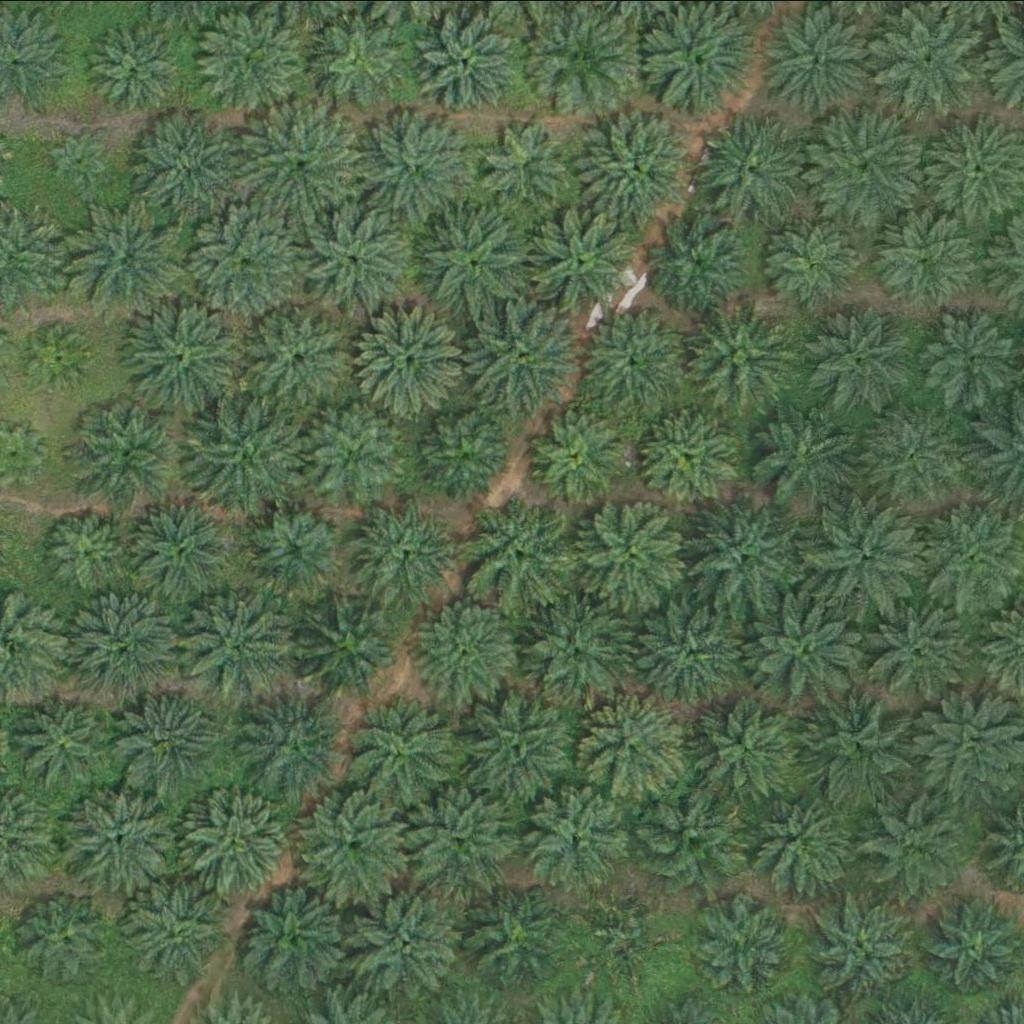Kelapa_Sawit: (292, 583, 406, 696), (117, 875, 231, 988), (344, 698, 458, 811), (410, 591, 524, 704), (463, 493, 577, 606), (574, 496, 688, 609), (746, 395, 860, 508), (66, 205, 179, 318), (189, 201, 302, 314), (126, 299, 239, 412), (68, 587, 181, 700), (183, 586, 296, 699), (13, 684, 126, 797), (238, 883, 351, 996), (353, 884, 466, 997), (459, 881, 572, 994), (641, 783, 754, 896), (523, 595, 636, 708), (356, 299, 469, 412), (301, 206, 414, 319), (415, 203, 528, 316), (520, 202, 633, 315), (580, 108, 693, 221), (761, 2, 874, 115), (696, 111, 809, 224), (810, 106, 923, 219), (859, 398, 972, 511), (690, 498, 803, 611), (812, 496, 925, 609), (232, 689, 346, 801), (63, 779, 177, 891), (184, 783, 298, 895), (681, 302, 795, 414), (805, 303, 919, 415), (197, 2, 310, 114), (131, 108, 244, 220), (244, 106, 357, 218), (245, 300, 358, 412), (72, 396, 185, 508), (194, 397, 307, 509), (130, 494, 243, 606), (115, 684, 228, 796), (299, 788, 412, 900), (403, 783, 516, 895), (521, 782, 634, 894), (462, 687, 575, 799), (577, 686, 690, 798), (630, 589, 743, 701), (469, 302, 582, 414), (579, 304, 692, 416), (362, 112, 475, 224), (749, 591, 862, 703), (860, 594, 973, 706), (693, 691, 806, 803), (808, 688, 921, 800), (808, 886, 921, 998), (247, 498, 348, 598), (302, 398, 403, 498), (412, 397, 513, 497), (647, 213, 748, 313), (480, 113, 581, 213), (302, 9, 403, 109), (413, 13, 514, 113), (752, 796, 853, 896), (865, 799, 966, 899), (691, 889, 792, 989), (83, 18, 183, 118), (20, 889, 120, 989), (352, 495, 452, 595), (527, 399, 627, 499), (639, 403, 739, 503), (766, 212, 866, 312), (880, 207, 980, 307), (40, 506, 128, 594), (583, 886, 672, 973), (27, 325, 90, 388), (47, 129, 110, 191)
